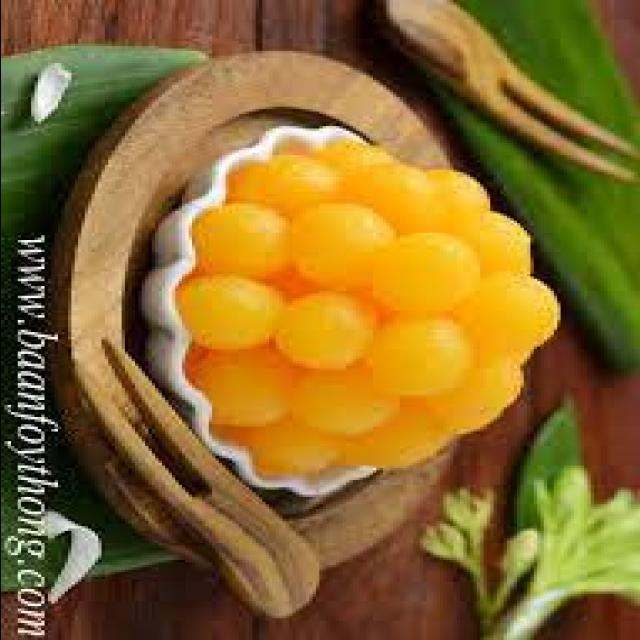Tongyord: (170, 268, 282, 364), (202, 342, 306, 442), (373, 233, 487, 321), (447, 276, 561, 364), (270, 282, 374, 376), (284, 200, 384, 296), (359, 318, 475, 398), (358, 389, 456, 482), (290, 357, 398, 441), (341, 162, 439, 238), (266, 403, 344, 493), (224, 148, 336, 210), (206, 200, 292, 280)
